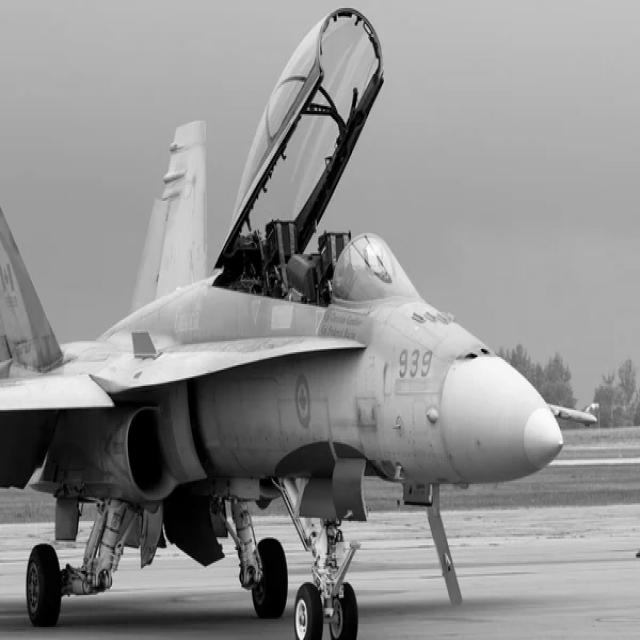Aircraft: (0, 125, 573, 636)
